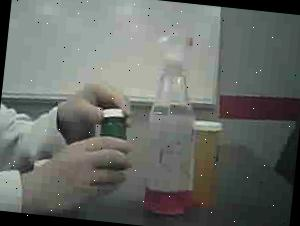Bottle A: (186, 116, 236, 212)
Bottle C: (84, 101, 138, 185)
hazard: (128, 23, 212, 222)
